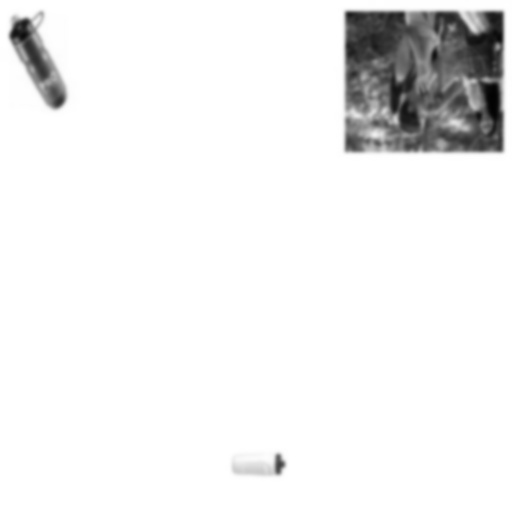bottle: (6, 4, 68, 114), (227, 444, 290, 486), (416, 74, 464, 118)
